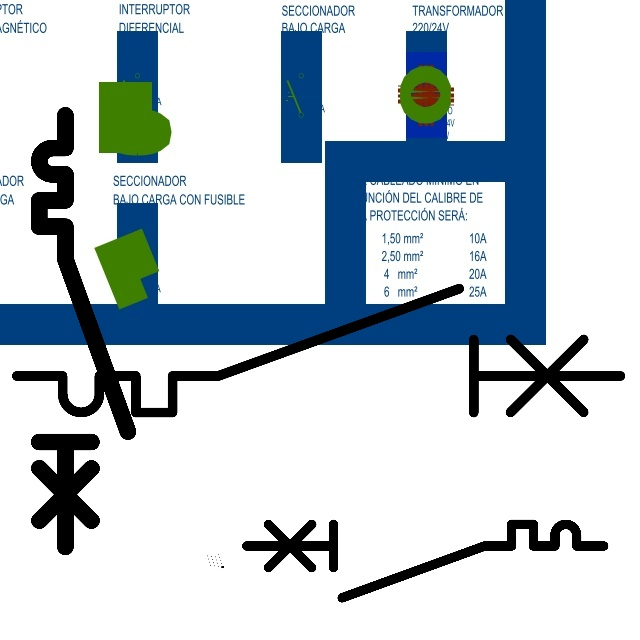interruptor_termomagnetico: (1, 273, 636, 428), (28, 104, 139, 558), (237, 515, 613, 607)
